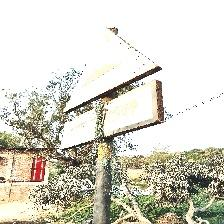Speed-breaker: (60, 28, 158, 148)
